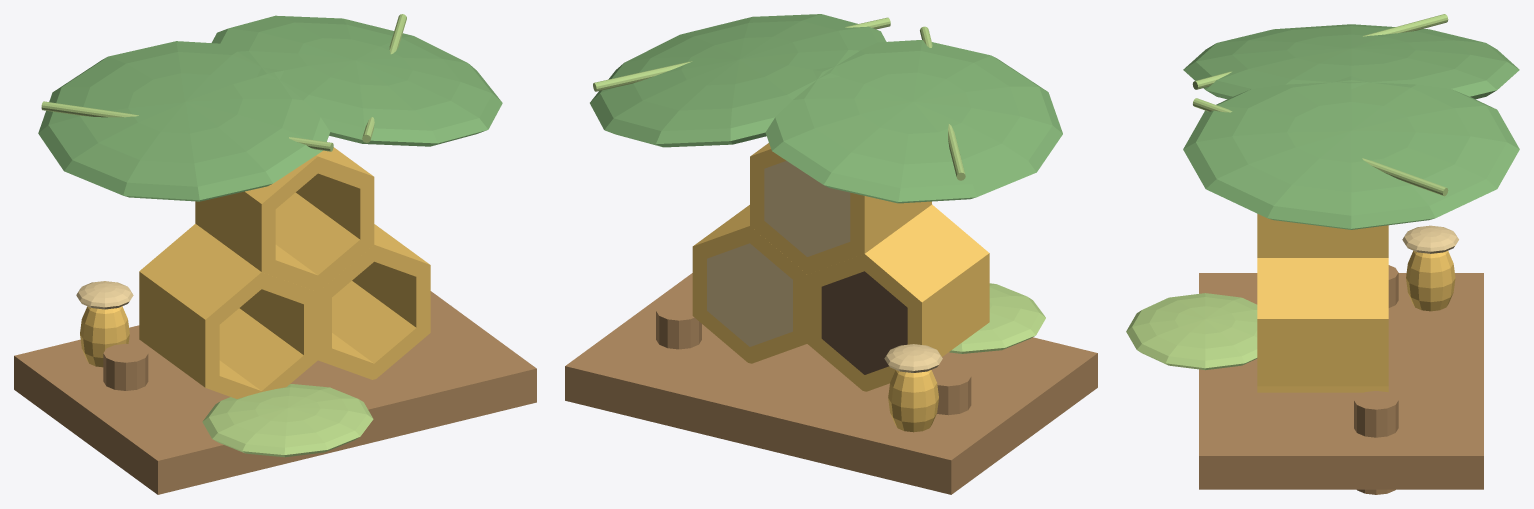
File: BeeHoneycombHome.fbx
3 views of the same model, side by side, from view 1: azimuth 30°, elevation 25°; view 2: azimuth 150°, elevation 25°; view 3: azimuth 270°, elevation 25° (orthographic). The views are drawn at different scales.
Visible parts, largest first — view 1: Timber landing deck, Overlapping roof leaf, Overlapping roof leaf.001, Hexagonal wax room.001, Hexagonal wax room, Hexagonal wax room.002, Entrance landing leaf, Honey jar, Raised hive foot, Honey jar lid, Roof leaf vein, Roof leaf vein.001; view 2: Timber landing deck, Overlapping roof leaf, Overlapping roof leaf.001, Hexagonal wax room.001, Recessed chamber.002, Recessed chamber.001, Hexagonal wax room.002, Recessed chamber, Hexagonal wax room, Entrance landing leaf, Honey jar, Raised hive foot.001 (+4 smaller); view 3: Timber landing deck, Overlapping roof leaf.001, Hexagonal wax room.002, Overlapping roof leaf, Entrance landing leaf, Hexagonal wax room, Honey jar, Raised hive foot.001, Honey jar lid, Roof leaf vein.001, Roof leaf vein.
Part boxes in pixels (left/top/right/bottom): Timber landing deck: left=14, top=291, right=536, bottom=494; Overlapping roof leaf: left=38, top=41, right=329, bottom=201; Overlapping roof leaf.001: left=211, top=15, right=502, bottom=146; Hexagonal wax room.001: left=139, top=224, right=317, bottom=398; Hexagonal wax room: left=195, top=147, right=374, bottom=292; Hexagonal wax room.002: left=318, top=224, right=430, bottom=379; Entrance landing leaf: left=202, top=384, right=373, bottom=457; Honey jar: left=80, top=306, right=129, bottom=367; Raised hive foot: left=103, top=343, right=148, bottom=390; Honey jar lid: left=76, top=281, right=133, bottom=309; Roof leaf vein: left=41, top=101, right=333, bottom=151; Roof leaf vein.001: left=362, top=14, right=406, bottom=142; Timber landing deck: left=565, top=273, right=1097, bottom=494; Overlapping roof leaf: left=765, top=40, right=1062, bottom=203; Overlapping roof leaf.001: left=590, top=14, right=886, bottom=147; Hexagonal wax room.001: left=807, top=204, right=989, bottom=391; Recessed chamber.002: left=707, top=243, right=792, bottom=346; Recessed chamber.001: left=821, top=271, right=907, bottom=374; Hexagonal wax room.002: left=692, top=205, right=807, bottom=363; Recessed chamber: left=764, top=161, right=850, bottom=256; Hexagonal wax room: left=750, top=143, right=931, bottom=274; Entrance landing leaf: left=949, top=283, right=1045, bottom=353; Honey jar: left=888, top=370, right=938, bottom=432; Raised hive foot.001: left=656, top=301, right=701, bottom=349; Timber landing deck: left=1199, top=273, right=1483, bottom=489; Overlapping roof leaf.001: left=1183, top=76, right=1519, bottom=229; Hexagonal wax room.002: left=1257, top=258, right=1388, bottom=392; Overlapping roof leaf: left=1183, top=24, right=1519, bottom=99; Entrance landing leaf: left=1126, top=293, right=1257, bottom=370; Hexagonal wax room: left=1257, top=214, right=1388, bottom=257; Honey jar: left=1406, top=250, right=1455, bottom=311; Raised hive foot.001: left=1354, top=391, right=1398, bottom=494; Honey jar lid: left=1402, top=225, right=1458, bottom=253; Roof leaf vein.001: left=1193, top=98, right=1448, bottom=196; Roof leaf vein: left=1192, top=14, right=1448, bottom=89.
Size of the model in its own units: 191 by 151 by 159.
